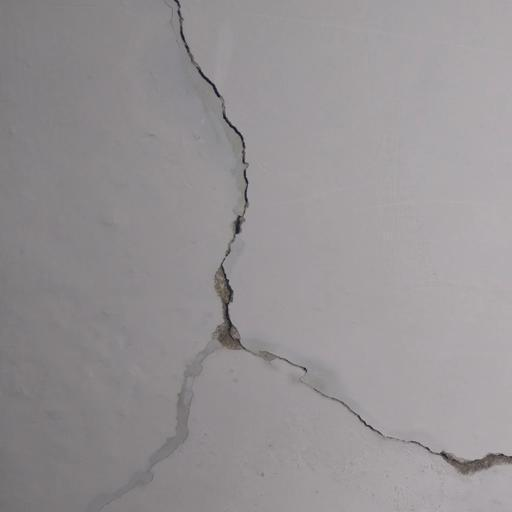major_crack: (167, 0, 512, 480)
